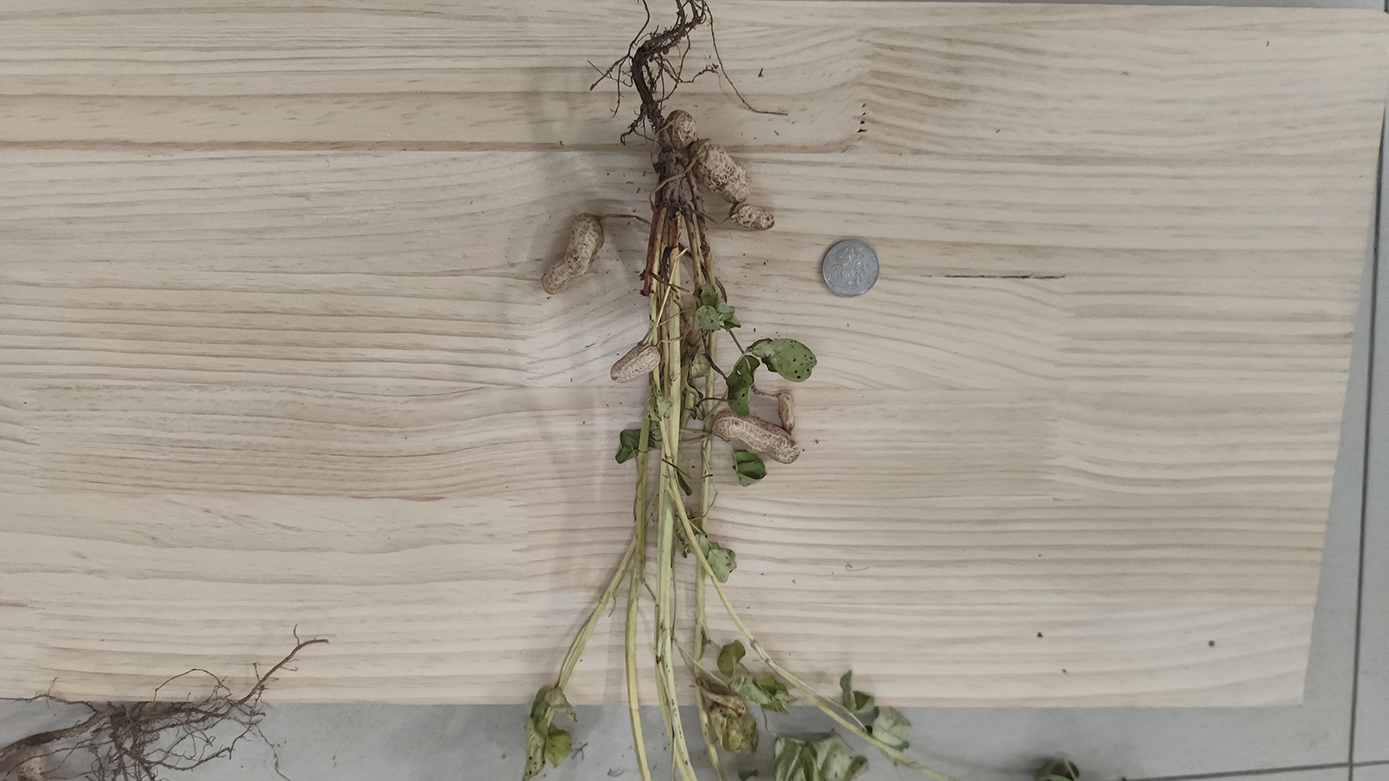h: (540, 214, 604, 294), (713, 412, 801, 466), (687, 139, 750, 203), (611, 344, 661, 384), (662, 109, 696, 148), (729, 204, 776, 232)
